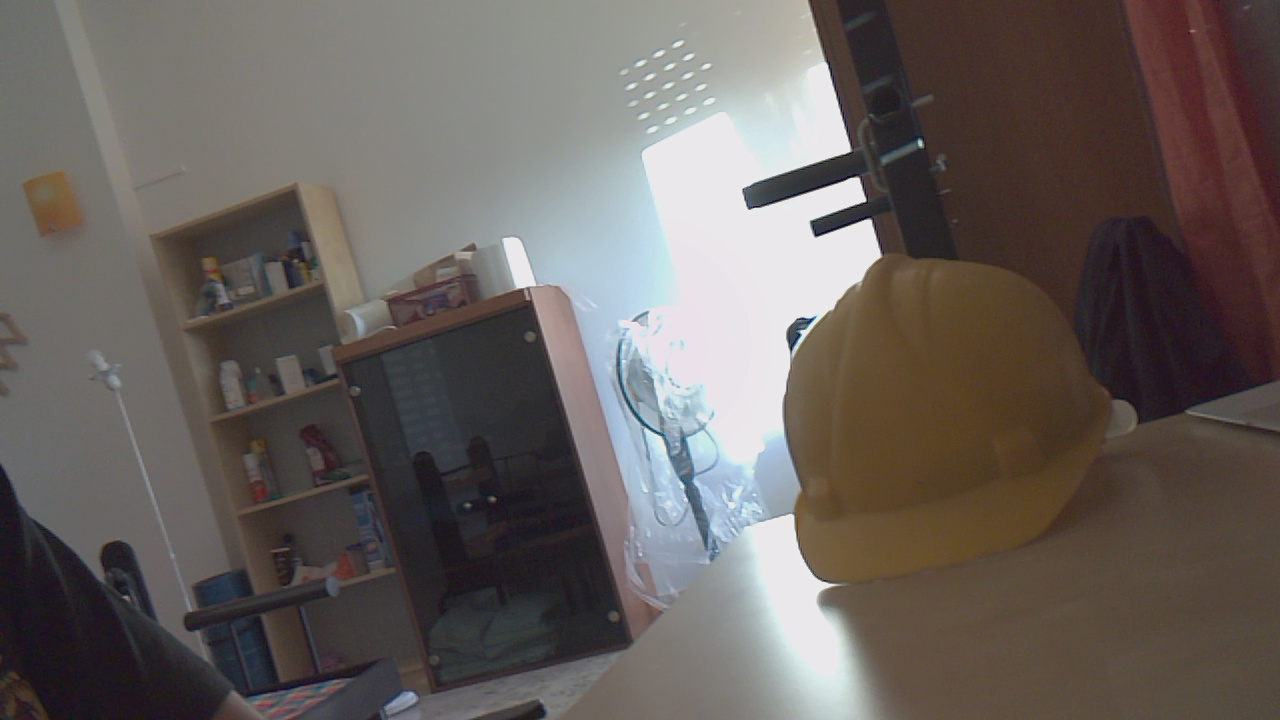Helmet: (765, 262, 1152, 595)
